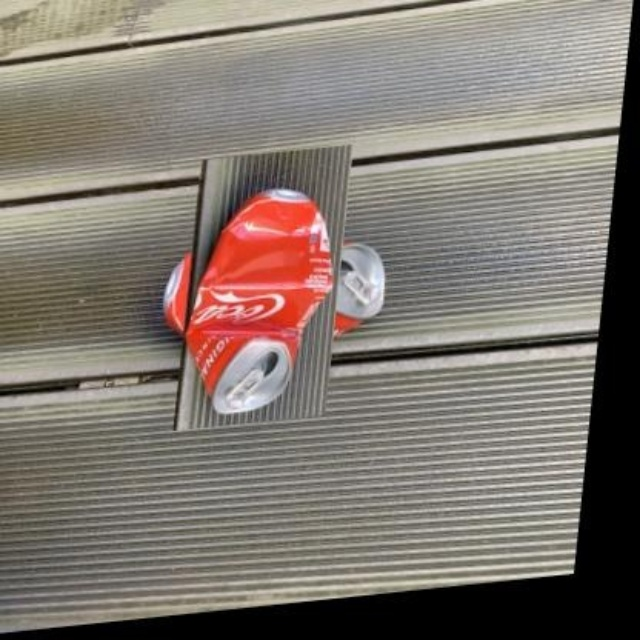trash: (163, 189, 332, 412), (186, 189, 332, 412)
